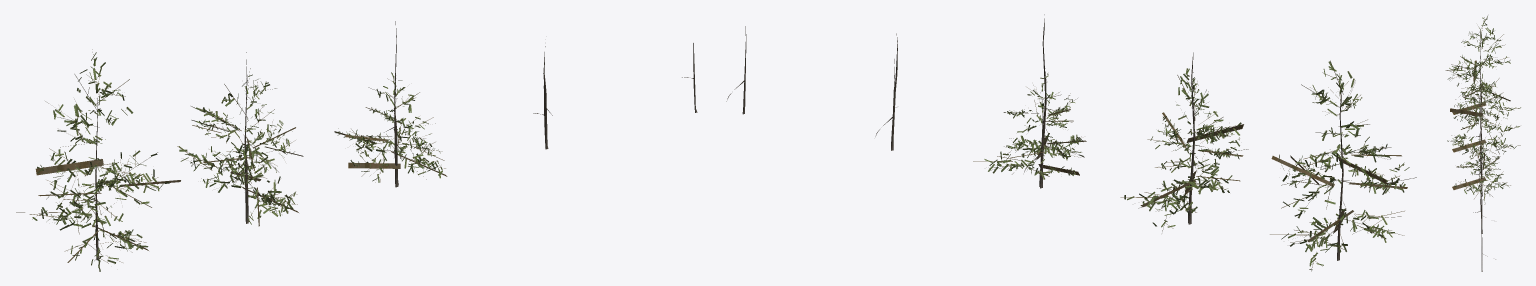
File: fir_sapling.glb
The picture shows the model from 3 angles, left to right: view 1: azimuth 30°, elevation 25°; view 2: azimuth 150°, elevation 25°; view 3: azimuth 270°, elevation 25°; orthographic projection. The views are drawn at different scales.
Visible parts, largest first — view 1: object 4, fir_sapling_c, fir_sapling_b, fir_sapling_a; view 2: object 4, fir_sapling_c, fir_sapling_b, fir_sapling_a; view 3: object 4, fir_sapling_c, fir_sapling_a, fir_sapling_b.
Boxes of the visible parts, <box> form: object 4: <box>16,49,447,271</box>; fir_sapling_c: <box>384,21,697,187</box>; fir_sapling_b: <box>236,52,545,223</box>; fir_sapling_a: <box>87,91,394,260</box>; object 4: <box>973,60,1416,271</box>; fir_sapling_c: <box>726,14,1056,188</box>; fir_sapling_b: <box>875,52,1205,224</box>; fir_sapling_a: <box>1024,91,1352,260</box>; object 4: <box>1445,16,1520,204</box>; fir_sapling_c: <box>1473,107,1495,271</box>; fir_sapling_a: <box>1474,31,1493,182</box>; fir_sapling_b: <box>1476,69,1485,217</box>.
Bounding box in the file's own units: 4.47 × 1.31 × 0.8533.
2 materials, 2 textured.
